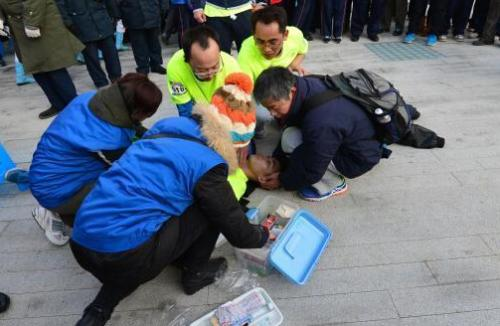10+: (1, 1, 498, 326)
down: (219, 142, 302, 200)
